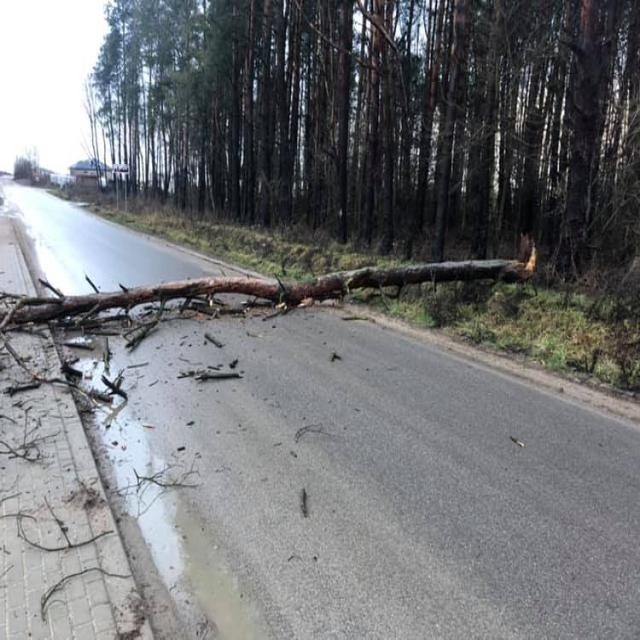fallen_tree: (0, 254, 532, 348)
